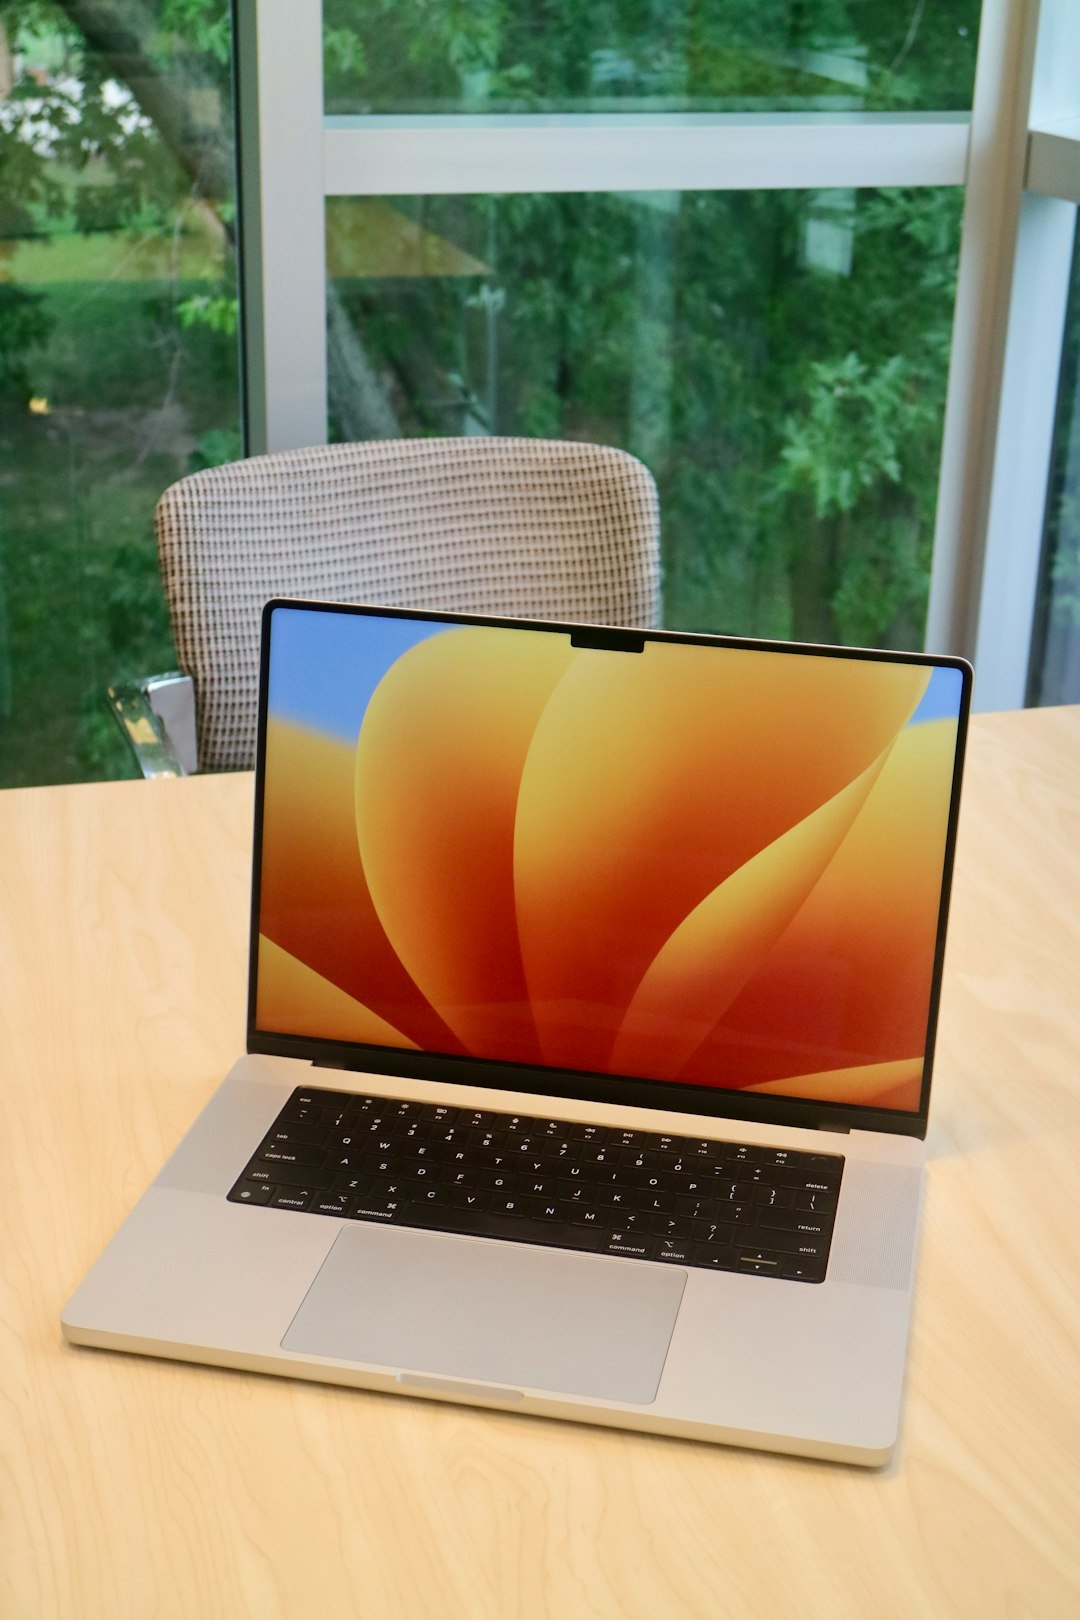laptop: (13, 557, 1058, 1512)
